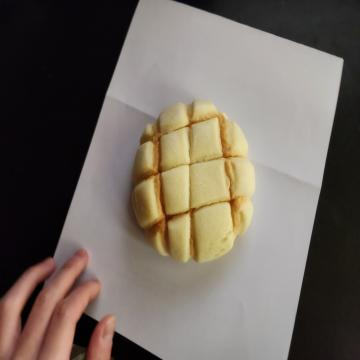melon_bread: (130, 101, 256, 266)
